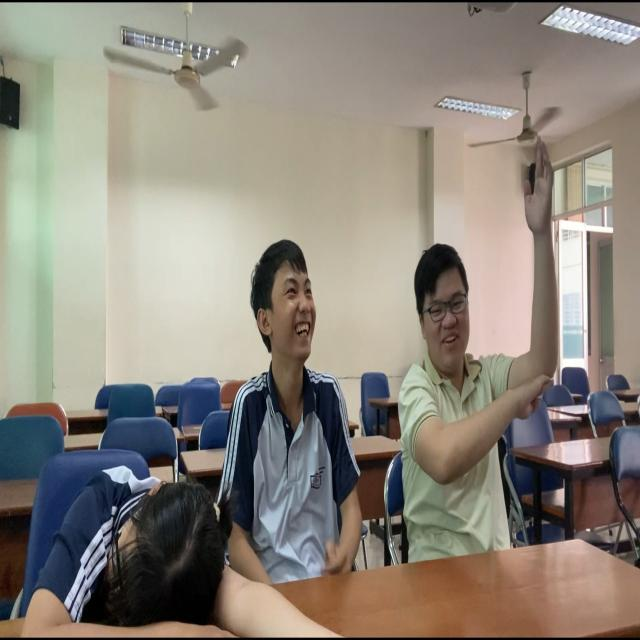raise_hand: (394, 130, 567, 544)
sleep: (7, 457, 304, 640)
